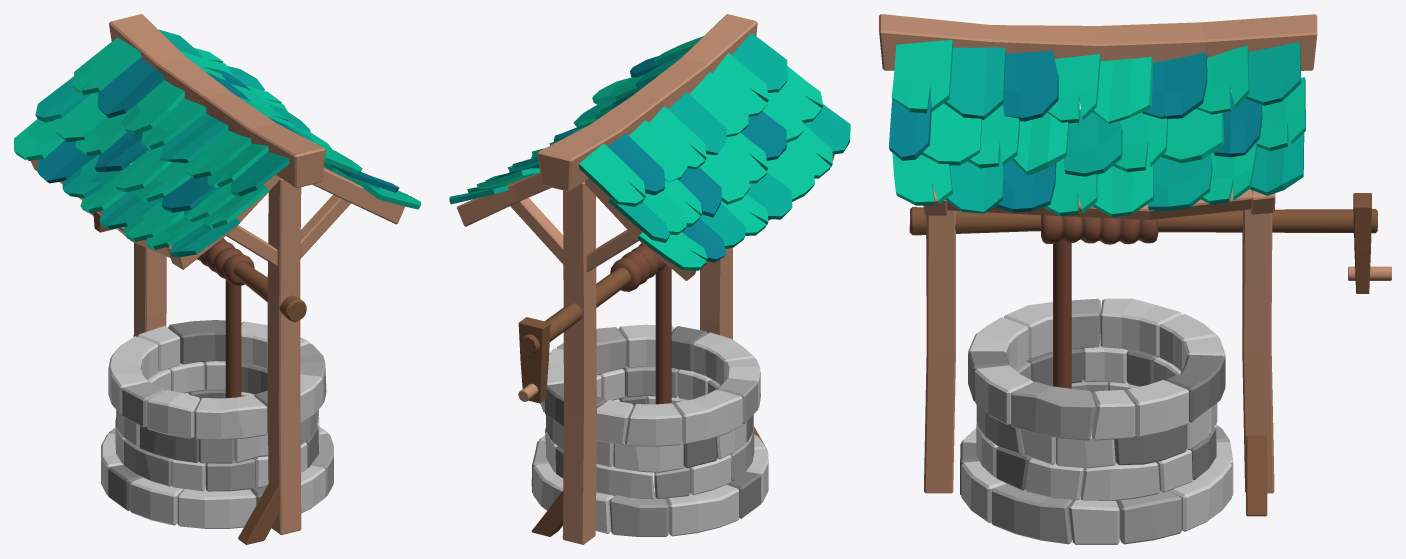
The model's file is Well.fbx.
The picture shows the model from 3 angles, left to right: view 1: azimuth 30°, elevation 25°; view 2: azimuth 150°, elevation 25°; view 3: azimuth 270°, elevation 25°; orthographic projection. The views are drawn at different scales.
Parts seen in each view (by area): view 1: Plane.001, Cube.003, Cube.005, Cube.006, Cube, Cube.002, Cube.001, Plane.017, Cube.004, Cylinder.003, Cube.008, Cube.017 (+5 smaller); view 2: Plane.001, Cube.003, Cube.004, Cube, Cube.006, Cube.002, Cube.001, Plane.017, Cube.005, Cylinder.003, Cylinder, Cube.019 (+6 smaller); view 3: Plane.017, Cube.003, Cube.006, Cube, Cube.002, Cube.001, Cube.005, Cube.004, Cylinder, Cylinder.002, Cylinder.003, Cube.015 (+2 smaller).
Boxes of the visible parts, x1=… form: Plane.001: x1=14, y1=37, x2=289, y2=257; Cube.003: x1=108, y1=320, x2=326, y2=440; Cube.005: x1=267, y1=178, x2=301, y2=534; Cube.006: x1=109, y1=14, x2=325, y2=188; Cube: x1=101, y1=427, x2=333, y2=528; Cube.002: x1=116, y1=361, x2=318, y2=463; Cube.001: x1=115, y1=387, x2=319, y2=491; Plane.017: x1=158, y1=29, x2=420, y2=209; Cube.004: x1=133, y1=242, x2=166, y2=336; Cylinder.003: x1=225, y1=279, x2=241, y2=397; Cube.008: x1=312, y1=167, x2=404, y2=224; Cube.017: x1=238, y1=480, x2=278, y2=544; Plane.001: x1=579, y1=33, x2=850, y2=270; Cube.003: x1=540, y1=324, x2=760, y2=446; Cube.004: x1=562, y1=182, x2=596, y2=544; Cube: x1=531, y1=434, x2=768, y2=536; Cube.006: x1=537, y1=14, x2=757, y2=191; Cube.002: x1=546, y1=366, x2=753, y2=472; Cube.001: x1=545, y1=395, x2=754, y2=499; Plane.017: x1=449, y1=36, x2=703, y2=204; Cube.005: x1=700, y1=247, x2=732, y2=339; Cylinder.003: x1=655, y1=265, x2=671, y2=404; Cylinder: x1=520, y1=267, x2=630, y2=354; Cube.019: x1=518, y1=317, x2=550, y2=403; Plane.017: x1=889, y1=40, x2=1305, y2=217; Cube.003: x1=968, y1=298, x2=1225, y2=440; Cube.006: x1=879, y1=14, x2=1317, y2=70; Cube: x1=960, y1=425, x2=1233, y2=544; Cube.002: x1=976, y1=336, x2=1217, y2=468; Cube.001: x1=976, y1=379, x2=1216, y2=500; Cube.005: x1=924, y1=210, x2=955, y2=493; Cube.004: x1=1242, y1=209, x2=1274, y2=493; Cylinder: x1=909, y1=207, x2=1377, y2=235; Cylinder.002: x1=1041, y1=215, x2=1158, y2=244; Cylinder.003: x1=1053, y1=240, x2=1071, y2=388; Cube.015: x1=936, y1=187, x2=1252, y2=219.
Bounding box in the file's own units: 225 × 339 × 335.
